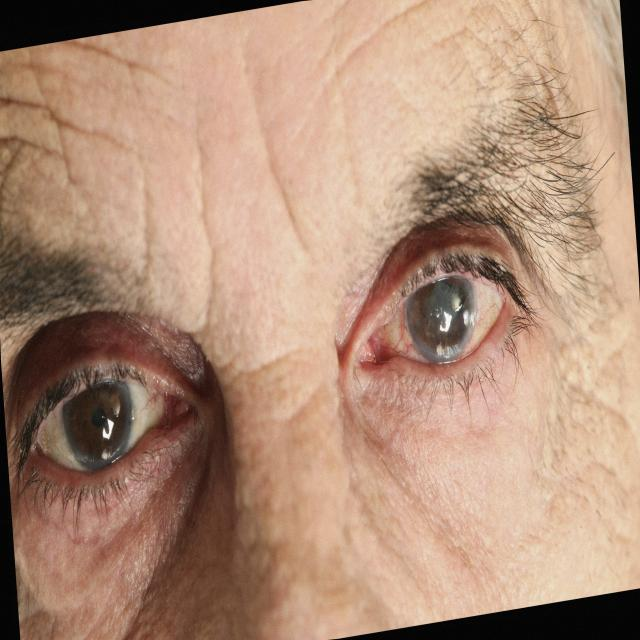Cataract: (21, 318, 197, 524), (351, 244, 521, 394)
